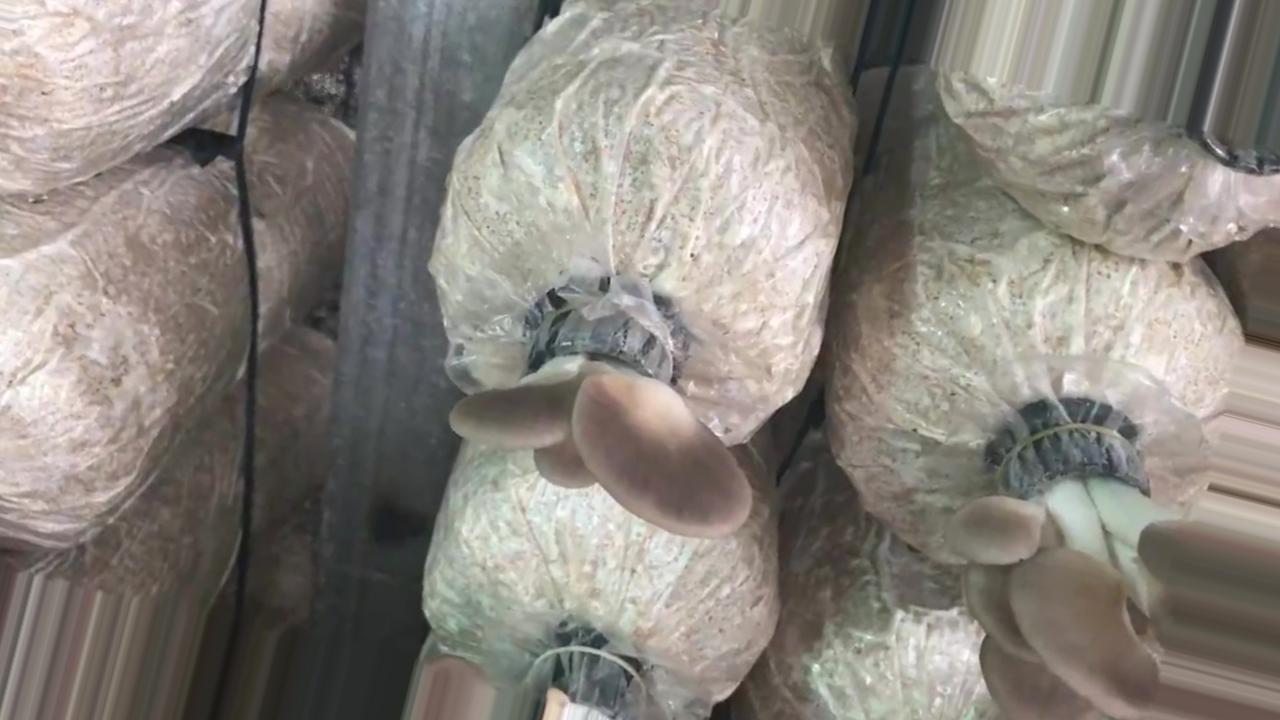nam: (942, 399, 1280, 718), (446, 280, 753, 542)
